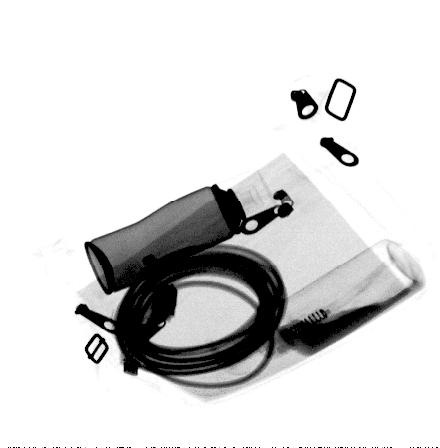Sprayer: (84, 163, 282, 296)
